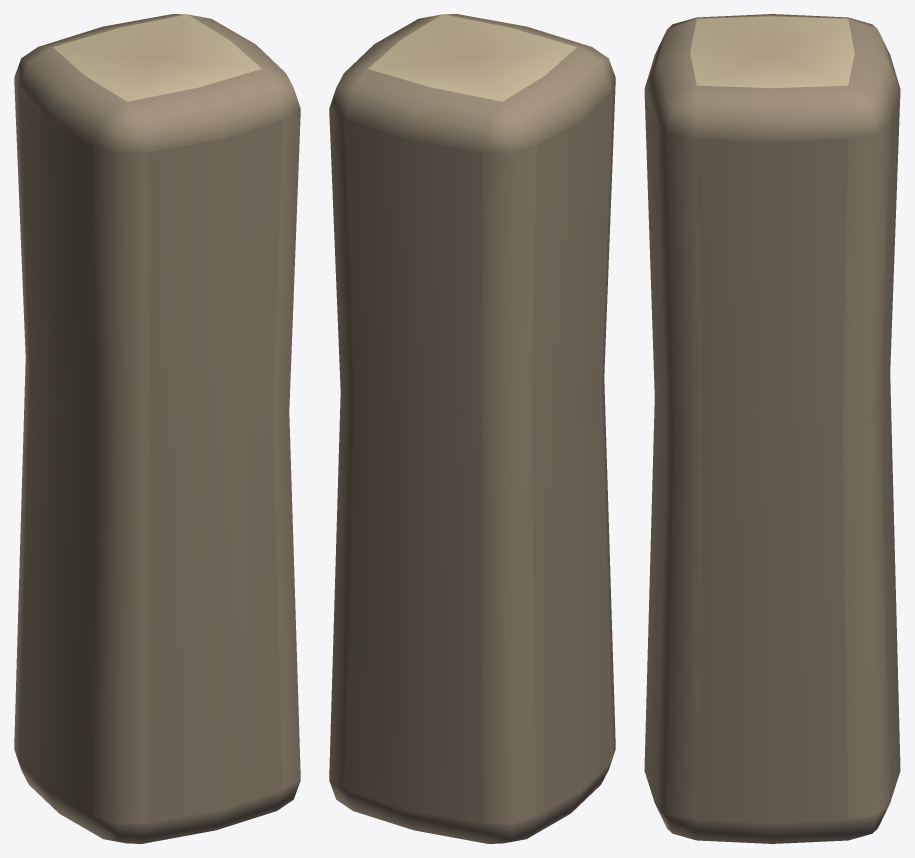
The model's file is DryWood_Fence_Pole.fbx.
The picture shows the model from 3 angles, left to right: view 1: azimuth 30°, elevation 25°; view 2: azimuth 150°, elevation 25°; view 3: azimuth 270°, elevation 25°; orthographic projection.
Visible parts, largest first — view 1: DryWood_Fence_Pole_LOD0; view 2: DryWood_Fence_Pole_LOD0; view 3: DryWood_Fence_Pole_LOD0.
Part boxes in pixels (x1,y1,x2,y2): DryWood_Fence_Pole_LOD0: (14,14,300,843); DryWood_Fence_Pole_LOD0: (329,14,615,843); DryWood_Fence_Pole_LOD0: (644,14,900,843).
Size of what is drawn, in the model's own units: 0.3233 by 1.05 by 0.3234.
